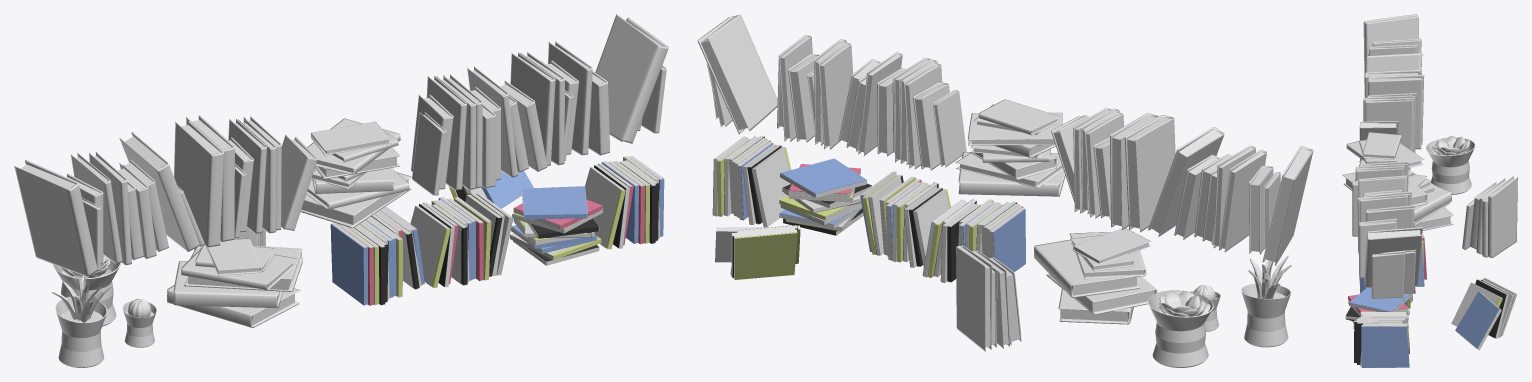
The model's file is chambre test biblio d1.fbx.
3 renders of one model, left to right at view 1: azimuth 30°, elevation 25°; view 2: azimuth 150°, elevation 25°; view 3: azimuth 270°, elevation 25°, orthographic. The views are drawn at different scales.
Visible parts, largest first — view 1: Livre_Fermee_D.020|Livre_Fermee_D|Dupli|, Livre_Fermee_D.018|Livre_Fermee_D|Dupli|, Livre_Fermee_D.022|Livre_Fermee_D|Dupli|, Plante_B.001|Plante_B|Dupli|, Livre_Fermee_D.021|Livre_Fermee_D|Dupli|, Livre_Fermee_B.051|Livre_Fermee_B|Dupli|, Livre_Fermee_C.035|Livre_Fermee_C|Dupli|, Livre_Fermee_D.043|Livre_Fermee_D|Dupli|, CD_Pochette_Fermee_C.010|CD_Pochette_Fermee_C.103|Dupli|1, Livre_Fermee_C.032|Livre_Fermee_C|Dupli|, Livre_Fermee_A.022|Livre_Fermee_A|Dupli|, CD_Pochette_Fermee_C.017|CD_Pochette_Fermee_C.103|Dupli|1 (+48 smaller); view 2: Livre_Fermee_D.018|Livre_Fermee_D|Dupli|, Livre_Fermee_D.022|Livre_Fermee_D|Dupli|, Plante_C.001|Plante_C|Dupli|, Plante_B.001|Plante_B|Dupli|, Livre_Fermee_C.077|Livre_Fermee_C|Dupli|, Livre_Fermee_D.020|Livre_Fermee_D|Dupli|, Livre_Fermee_D.021|Livre_Fermee_D|Dupli|, Livre_Fermee_D.042|Livre_Fermee_D|Dupli|, CD_Pochette_Fermee_D.022|CD_Pochette_Fermee_D.123|Dupli|1, Livre_Fermee_C.035|Livre_Fermee_C|Dupli|, Livre_Fermee_C.040|Livre_Fermee_C|Dupli|, Livre_Fermee_D.023|Livre_Fermee_D|Dupli| (+46 smaller); view 3: Plante_C.001|Plante_C|Dupli|, Livre_Fermee_C.077|Livre_Fermee_C|Dupli|, CD_Pochette_Fermee_C.019|CD_Pochette_Fermee_C.103|Dupli|1, Livre_Fermee_D.018|Livre_Fermee_D|Dupli|, Livre_Fermee_C.043|Livre_Fermee_C|Dupli|, Livre_Fermee_A.020|Livre_Fermee_A|Dupli|, Livre_Fermee_D.023|Livre_Fermee_D|Dupli|, Livre_Fermee_D.020|Livre_Fermee_D|Dupli|, CD_Pochette_Fermee_C.018|CD_Pochette_Fermee_C.103|Dupli|1, Livre_Fermee_D.021|Livre_Fermee_D|Dupli|, Livre_Fermee_A.027|Livre_Fermee_A|Dupli|, Livre_Fermee_C.032|Livre_Fermee_C|Dupli| (+34 smaller).
Boxes of the visible parts, left/top/right/bottom form: Livre_Fermee_D.020|Livre_Fermee_D|Dupli|: left=14, top=159, right=97, bottom=276; Livre_Fermee_D.018|Livre_Fermee_D|Dupli|: left=595, top=14, right=668, bottom=143; Livre_Fermee_D.022|Livre_Fermee_D|Dupli|: left=174, top=120, right=223, bottom=247; Plante_B.001|Plante_B|Dupli|: left=51, top=275, right=111, bottom=367; Livre_Fermee_D.021|Livre_Fermee_D|Dupli|: left=119, top=132, right=199, bottom=251; Livre_Fermee_B.051|Livre_Fermee_B|Dupli|: left=281, top=134, right=317, bottom=230; Livre_Fermee_C.035|Livre_Fermee_C|Dupli|: left=510, top=52, right=555, bottom=165; Livre_Fermee_D.043|Livre_Fermee_D|Dupli|: left=173, top=261, right=282, bottom=308; CD_Pochette_Fermee_C.010|CD_Pochette_Fermee_C.103|Dupli|1: left=330, top=224, right=367, bottom=305; Livre_Fermee_C.032|Livre_Fermee_C|Dupli|: left=548, top=41, right=592, bottom=155; Livre_Fermee_A.022|Livre_Fermee_A|Dupli|: left=412, top=112, right=446, bottom=195; CD_Pochette_Fermee_C.017|CD_Pochette_Fermee_C.103|Dupli|1: left=522, top=186, right=587, bottom=219; Livre_Fermee_D.018|Livre_Fermee_D|Dupli|: left=697, top=14, right=777, bottom=134; Livre_Fermee_D.022|Livre_Fermee_D|Dupli|: left=1124, top=115, right=1175, bottom=232; Plante_C.001|Plante_C|Dupli|: left=1147, top=290, right=1213, bottom=367; Plante_B.001|Plante_B|Dupli|: left=1241, top=255, right=1291, bottom=347; Livre_Fermee_C.077|Livre_Fermee_C|Dupli|: left=956, top=245, right=992, bottom=351; Livre_Fermee_D.020|Livre_Fermee_D|Dupli|: left=1262, top=146, right=1313, bottom=265; Livre_Fermee_D.021|Livre_Fermee_D|Dupli|: left=1148, top=127, right=1224, bottom=236; Livre_Fermee_D.042|Livre_Fermee_D|Dupli|: left=1034, top=239, right=1140, bottom=297; CD_Pochette_Fermee_D.022|CD_Pochette_Fermee_D.123|Dupli|1: left=734, top=232, right=797, bottom=279; Livre_Fermee_C.035|Livre_Fermee_C|Dupli|: left=818, top=43, right=852, bottom=149; Livre_Fermee_C.040|Livre_Fermee_C|Dupli|: left=1219, top=149, right=1266, bottom=252; Livre_Fermee_D.023|Livre_Fermee_D|Dupli|: left=1110, top=113, right=1159, bottom=230; Plante_C.001|Plante_C|Dupli|: left=1426, top=135, right=1475, bottom=194; Livre_Fermee_C.077|Livre_Fermee_C|Dupli|: left=1488, top=175, right=1517, bottom=257; CD_Pochette_Fermee_C.019|CD_Pochette_Fermee_C.103|Dupli|1: left=1361, top=325, right=1409, bottom=367; Livre_Fermee_D.018|Livre_Fermee_D|Dupli|: left=1364, top=227, right=1422, bottom=287; Livre_Fermee_C.043|Livre_Fermee_C|Dupli|: left=1365, top=97, right=1414, bottom=151; Livre_Fermee_A.020|Livre_Fermee_A|Dupli|: left=1371, top=251, right=1405, bottom=298; Livre_Fermee_D.023|Livre_Fermee_D|Dupli|: left=1368, top=74, right=1424, bottom=149; Livre_Fermee_D.020|Livre_Fermee_D|Dupli|: left=1363, top=14, right=1418, bottom=83; CD_Pochette_Fermee_C.018|CD_Pochette_Fermee_C.103|Dupli|1: left=1455, top=291, right=1499, bottom=348; Livre_Fermee_D.021|Livre_Fermee_D|Dupli|: left=1365, top=53, right=1422, bottom=74; Livre_Fermee_A.027|Livre_Fermee_A|Dupli|: left=1363, top=132, right=1401, bottom=159; Livre_Fermee_C.032|Livre_Fermee_C|Dupli|: left=1365, top=205, right=1414, bottom=228.
Bounding box in the file's own units: 148 × 44.48 × 50.2.
